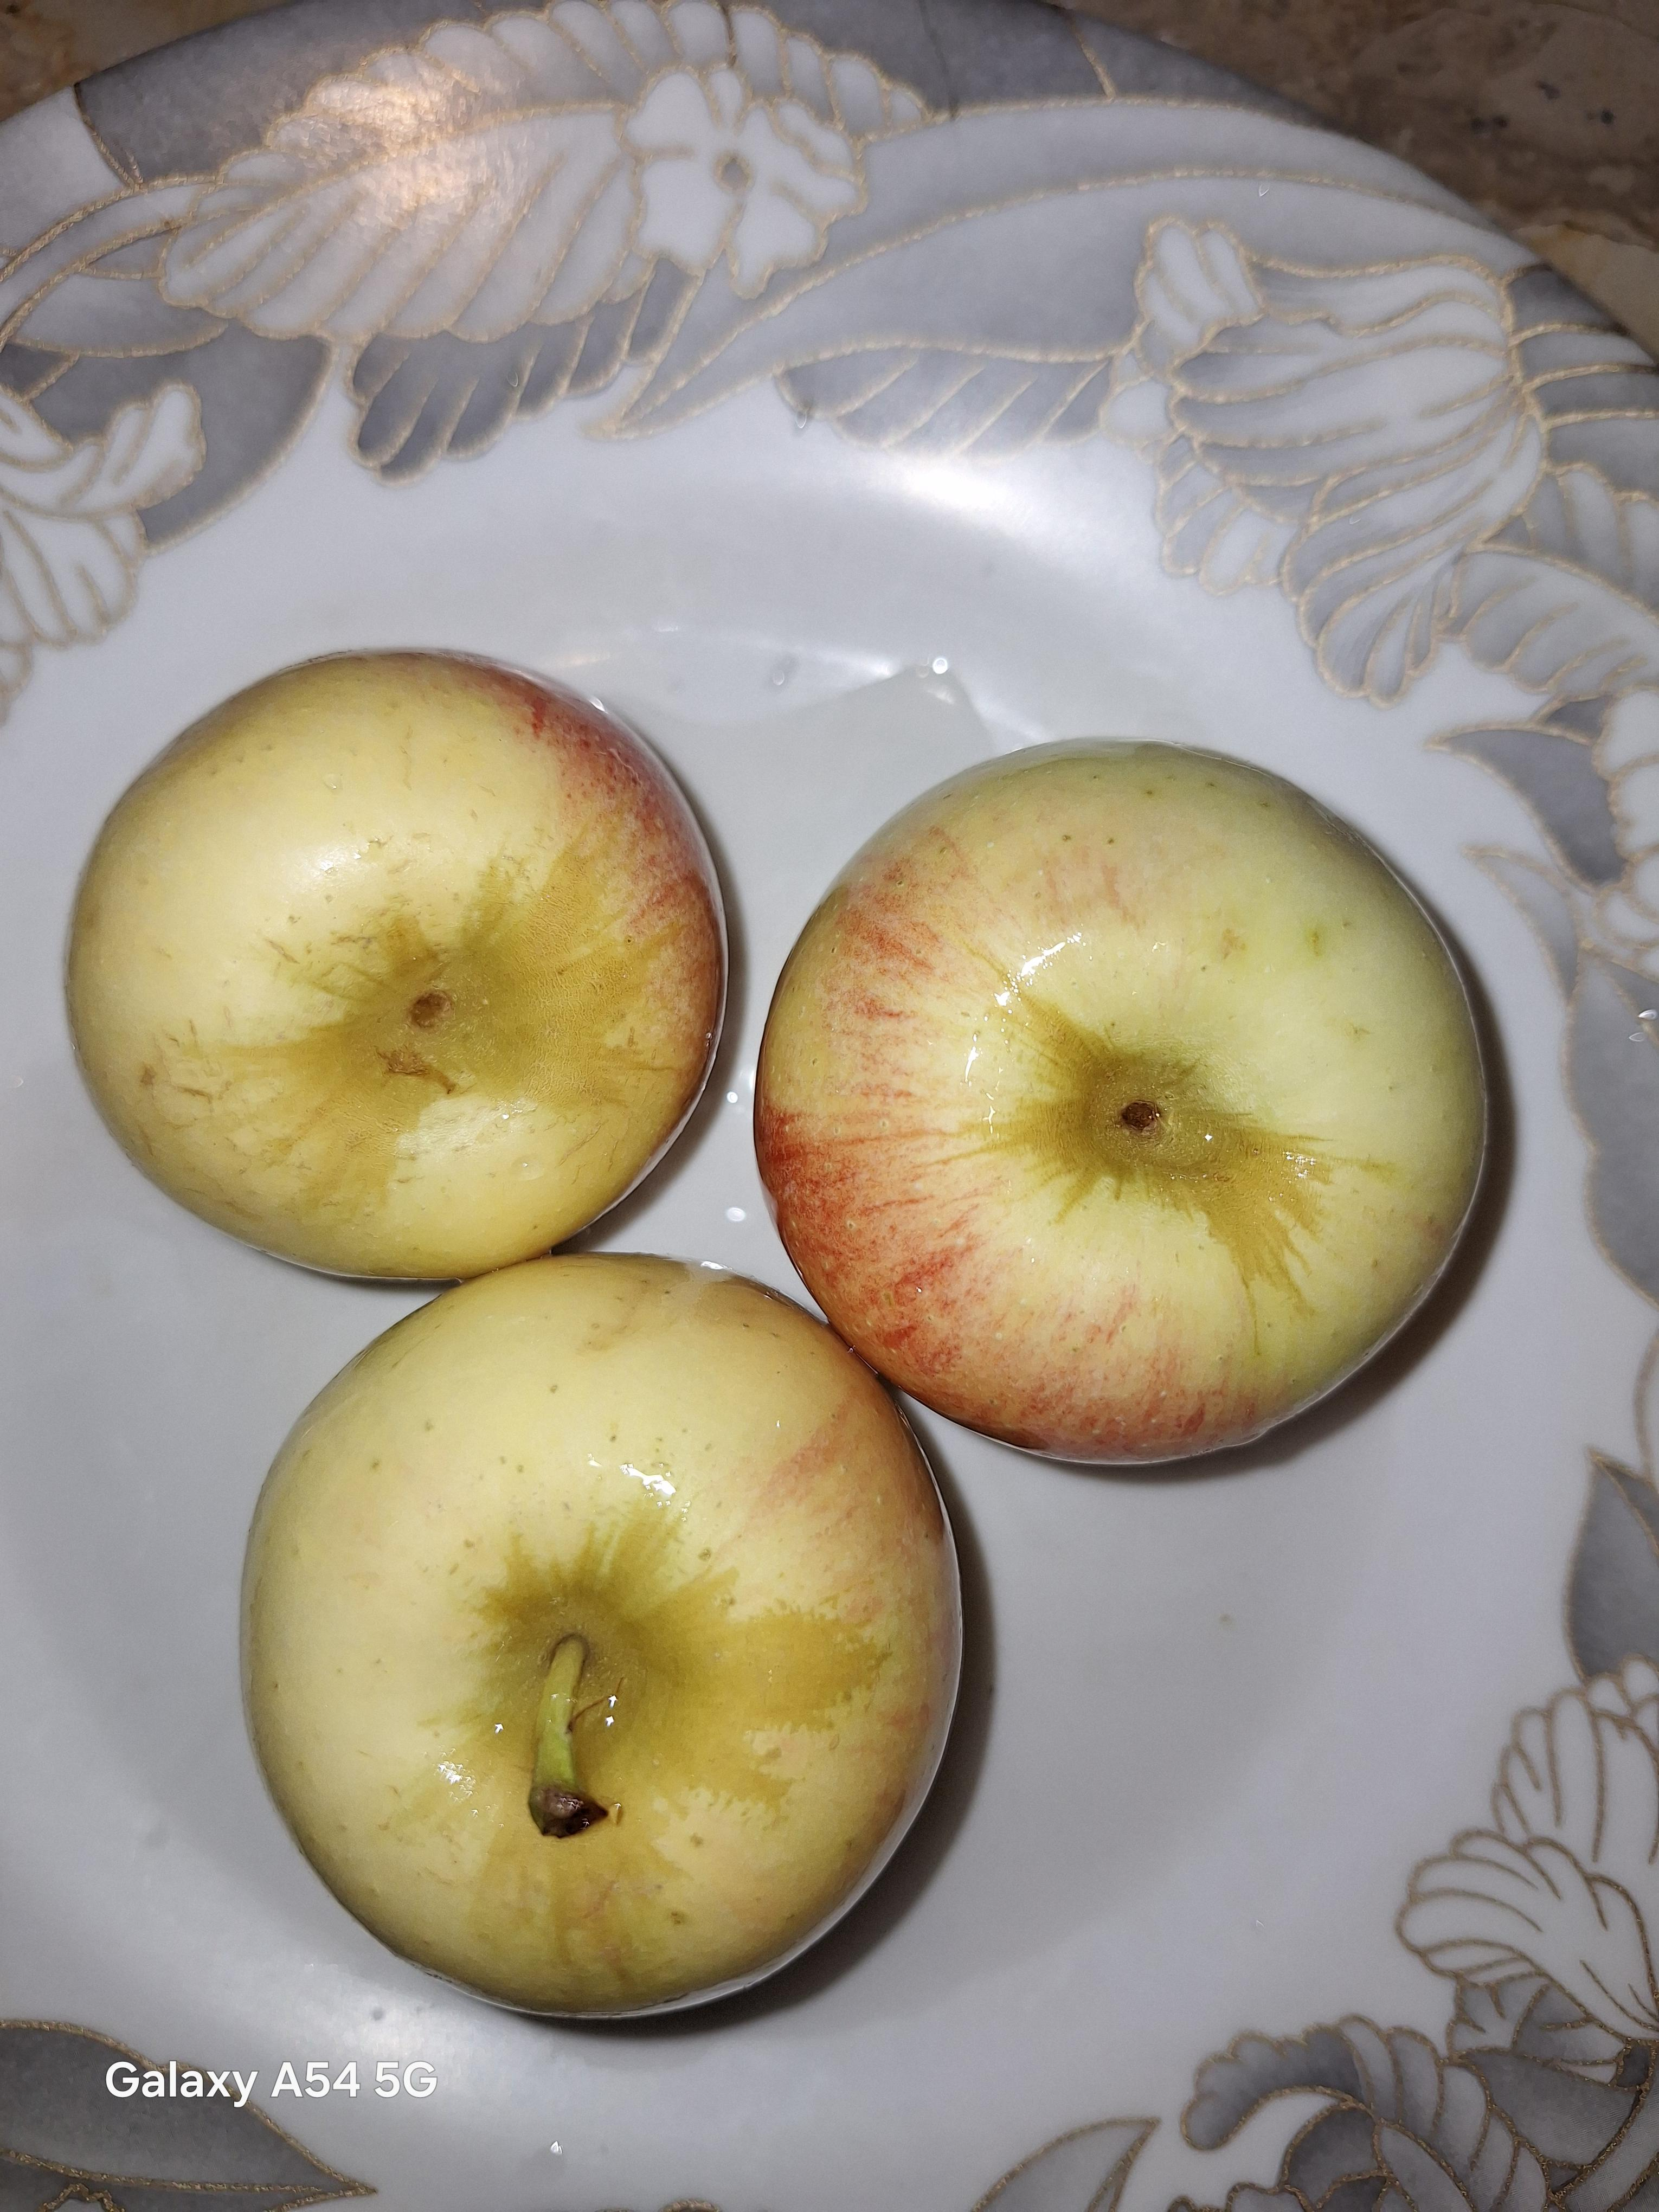non-mango: (244, 1259, 1004, 2040), (753, 733, 1516, 1465), (44, 636, 728, 1259)
